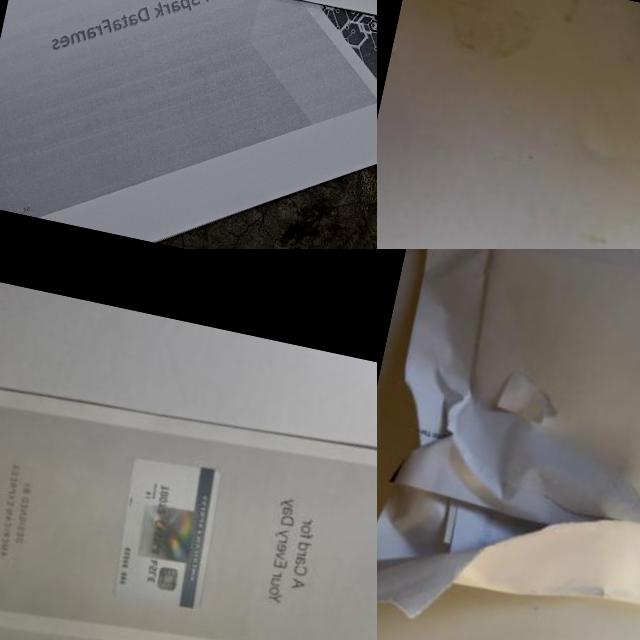papel: (0, 344, 377, 640), (377, 249, 640, 640), (0, 0, 377, 249), (377, 0, 640, 249)
